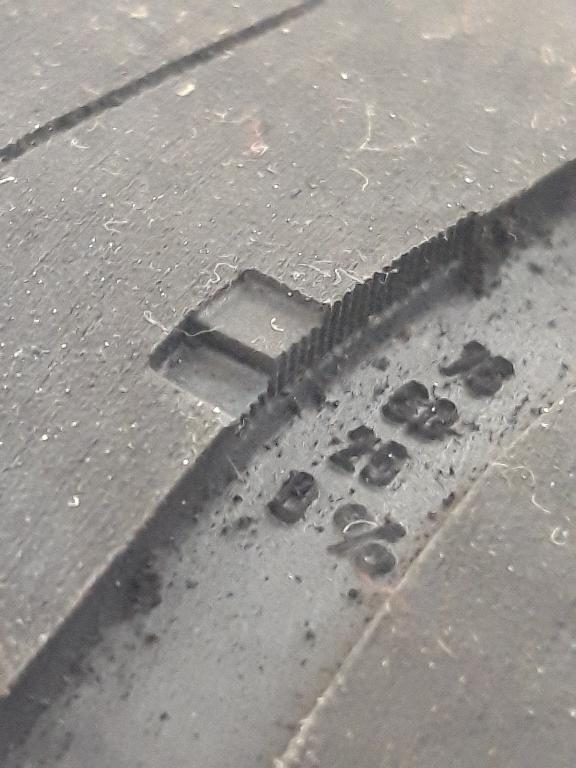temoin:25: (138, 261, 342, 451)
